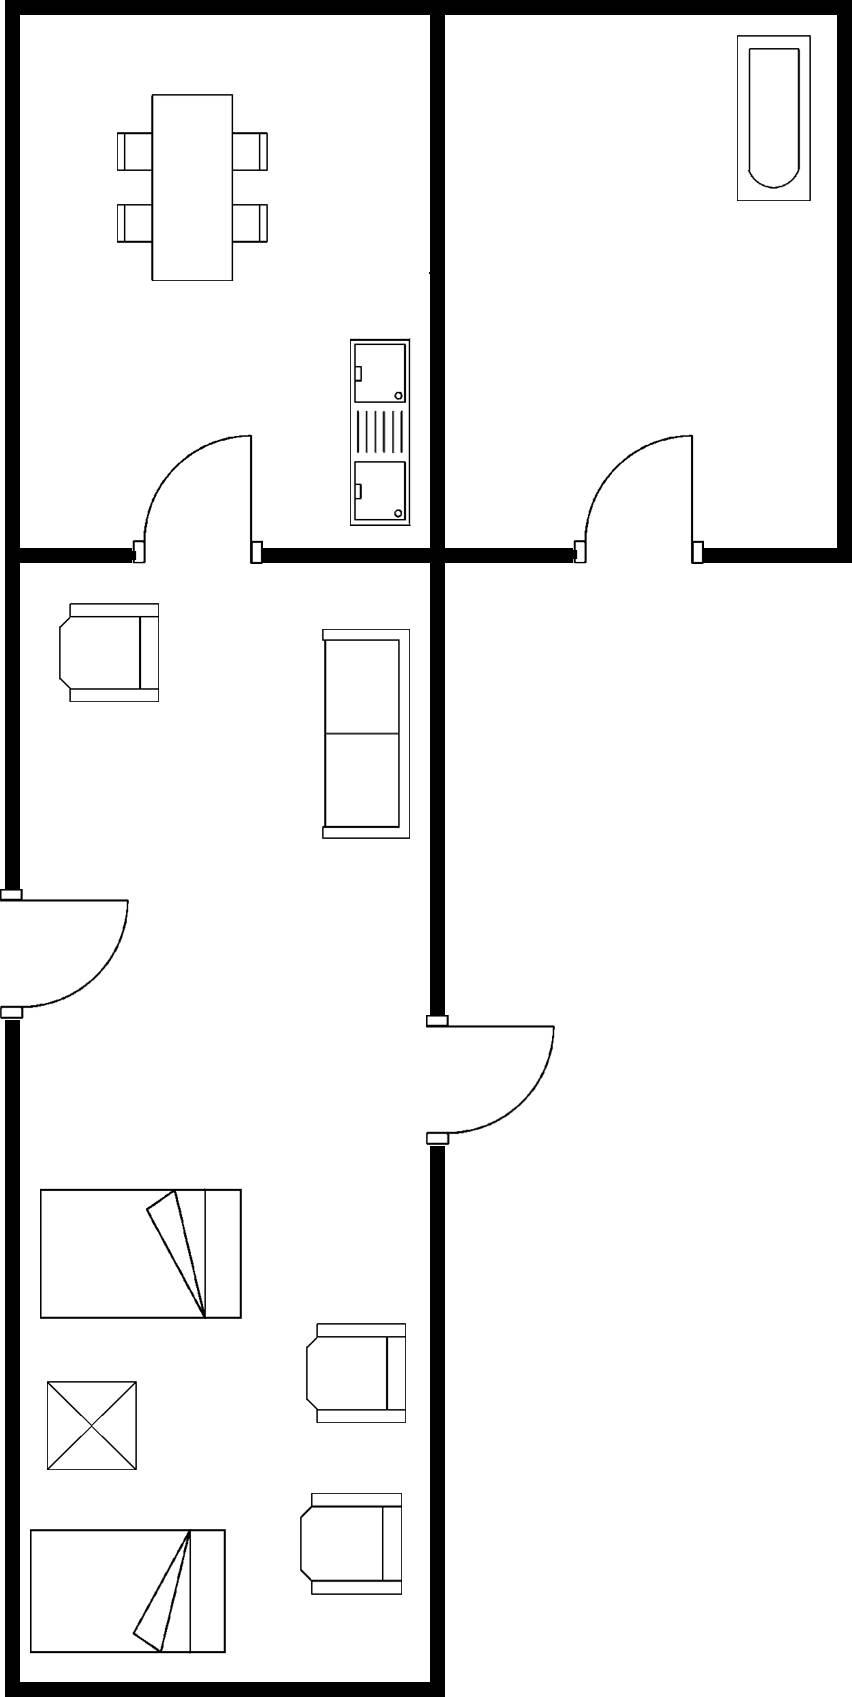sink: (341, 326, 419, 531)
